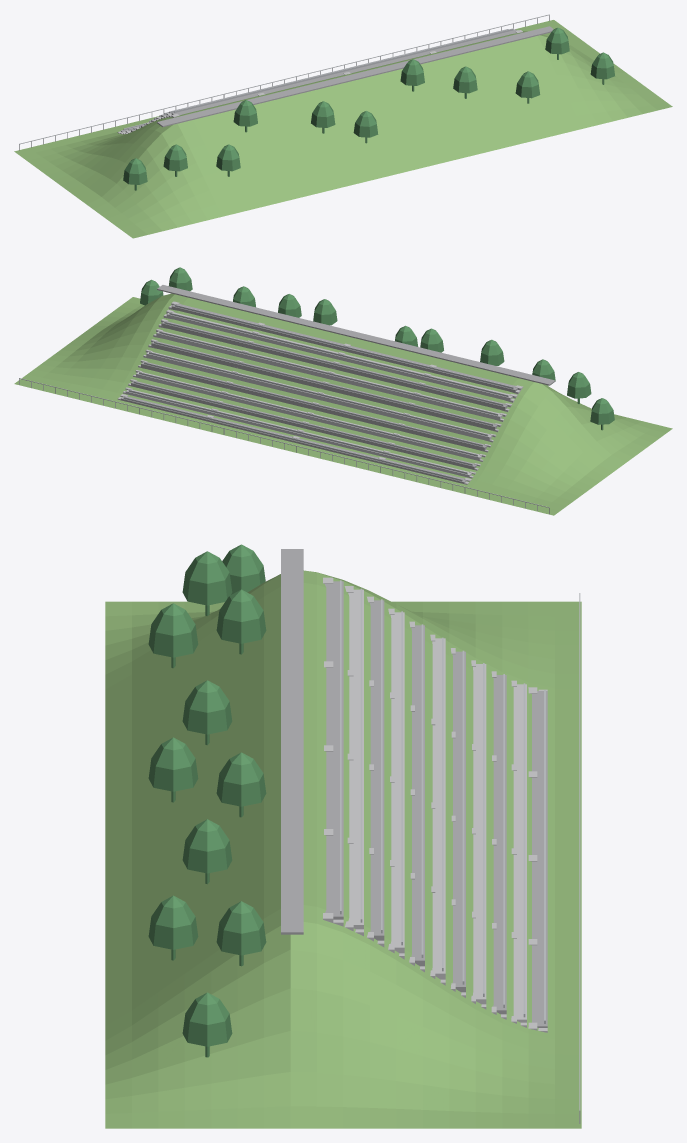
The model's file is hillside.glb.
3 renders of one model, top to bottom at view 1: azimuth 30°, elevation 25°; view 2: azimuth 150°, elevation 25°; view 3: azimuth 270°, elevation 25°, orthographic. The views are drawn at different scales.
Visible parts, largest first — view 1: slope, terraces, trees; view 2: slope, terraces, trees; view 3: slope, terraces, trees.
Part boxes in pixels (bbox=[...]): slope: bbox=[14, 20, 672, 238]; terraces: bbox=[19, 14, 553, 150]; trees: bbox=[123, 27, 614, 190]; slope: bbox=[14, 293, 672, 515]; terraces: bbox=[19, 285, 555, 514]; trees: bbox=[140, 267, 614, 430]; slope: bbox=[105, 570, 581, 1128]; terraces: bbox=[281, 549, 580, 1123]; trees: bbox=[148, 544, 266, 1057].
Bounding box in the file's own units: 220 × 30.36 × 84.
